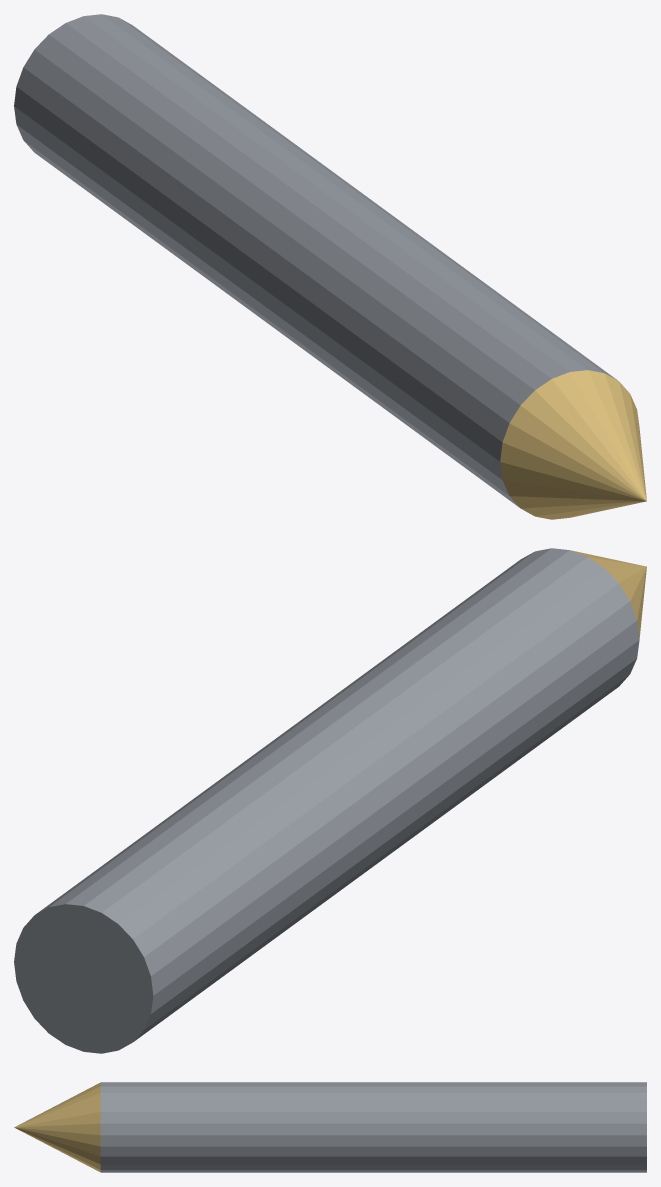
The picture shows the model from 3 angles, top to bottom: view 1: azimuth 30°, elevation 25°; view 2: azimuth 150°, elevation 25°; view 3: azimuth 270°, elevation 25°; orthographic projection. The views are drawn at different scales.
Visible parts, largest first — view 1: geometry_0, geometry_1; view 2: geometry_0, geometry_1; view 3: geometry_0, geometry_1.
Part boxes in pixels (x1,y1,x2,y2): geometry_0: (14,14,617,507); geometry_1: (500,370,646,519); geometry_0: (14,548,639,1053); geometry_1: (571,550,646,638); geometry_0: (100,1082,646,1172); geometry_1: (14,1082,100,1172).
Size of the model in its own units: 0.024 by 0.024 by 0.168.
